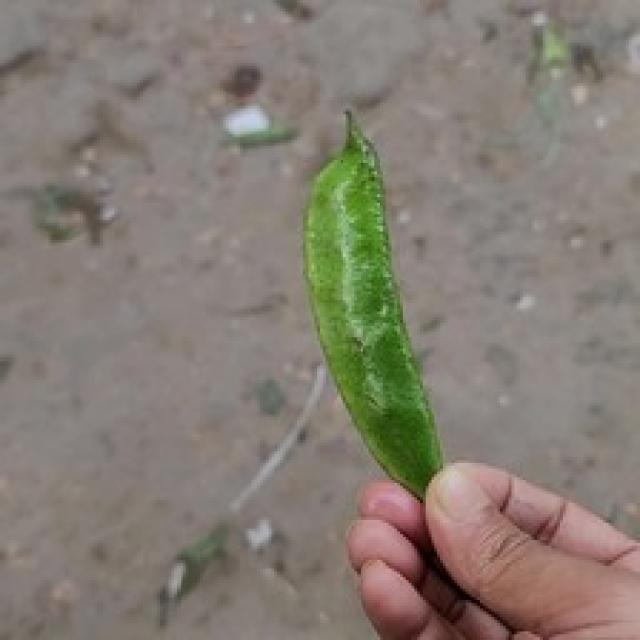Bean: (300, 106, 446, 500)
